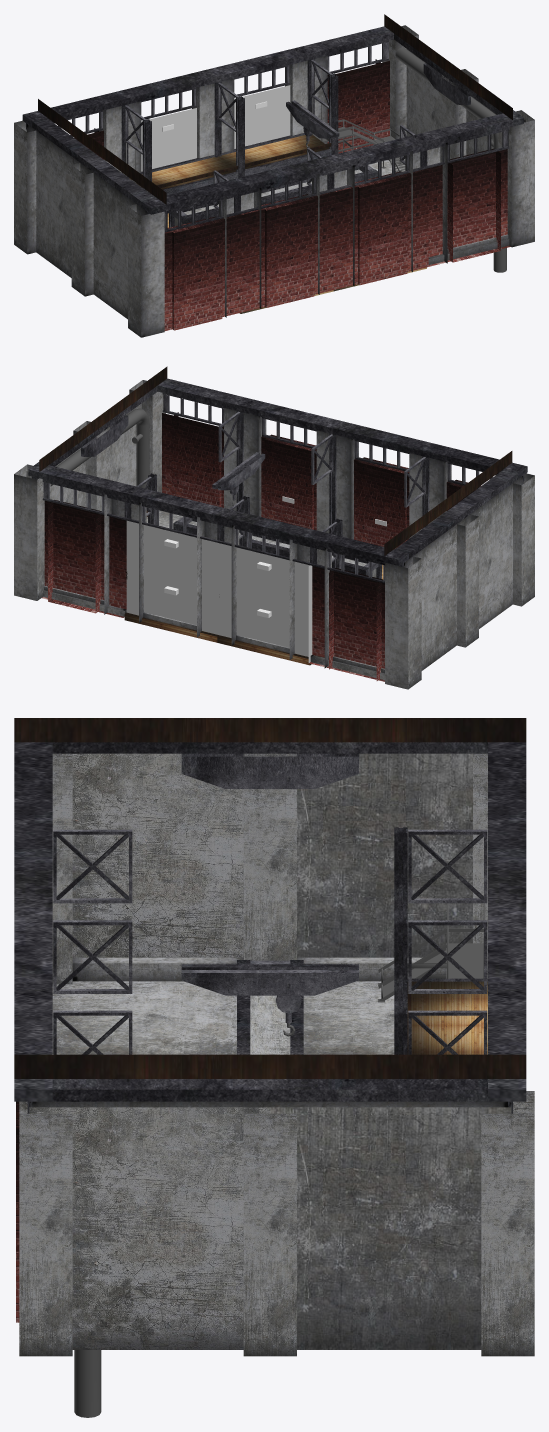
File: map.fbx
3 views of the same model, one above another, from view 1: azimuth 30°, elevation 25°; view 2: azimuth 150°, elevation 25°; view 3: azimuth 270°, elevation 25° (orthographic). The views are drawn at different scales.
Visible parts, largest first — view 1: pCube97, pCube41, pCube133, pCube84, pCube45, pCube82, pCube199, pCube197, pCube198, pCube44, pCube47, pCube178 (+44 smaller); view 2: pCube121, pCube122, pCube123, pCube133, pCube97, pCube120, pCube200, pCube199, pCube198, pCube82, pCube83, pCube180 (+38 smaller); view 3: pCube175, pCube176, pCube198, pCube199, pCube180, pCube178, pCube181, pCube97, pCube133, pCube259, pCube260, polySurface60 (+24 smaller).
Part boxes in pixels (x1,y1,x2,y2): pCube97: (141, 111, 523, 214); pCube41: (427, 149, 510, 266); pCube133: (22, 26, 393, 127); pCube84: (167, 216, 222, 330); pCube45: (261, 194, 314, 307); pCube82: (355, 171, 407, 285); pCube199: (26, 124, 86, 277); pCube197: (128, 204, 164, 337); pCube198: (87, 168, 147, 319); pCube44: (334, 168, 428, 289); pCube47: (241, 191, 335, 312); pCube178: (498, 110, 534, 247); pCube121: (219, 543, 312, 662); pCube122: (126, 520, 219, 634); pCube123: (42, 500, 126, 617); pCube133: (28, 462, 408, 565); pCube97: (157, 378, 527, 478); pCube120: (309, 566, 384, 681); pCube200: (385, 556, 421, 689); pCube199: (404, 519, 463, 670); pCube198: (463, 476, 523, 628); pCube82: (264, 434, 315, 529); pCube83: (171, 412, 223, 506); pCube180: (14, 464, 50, 600); pCube175: (270, 1101, 511, 1349); pCube176: (29, 1101, 270, 1349); pCube198: (72, 753, 243, 957); pCube199: (297, 753, 472, 957); pCube180: (481, 1091, 534, 1356); pCube178: (19, 1101, 72, 1356); pCube181: (243, 1113, 296, 1356); pCube97: (14, 742, 52, 1101); pCube133: (488, 742, 526, 1101); pCube259: (14, 1054, 526, 1078); pCube260: (14, 718, 526, 742); polySurface60: (52, 981, 236, 1054).
Size of the model in its own units: 67.62 by 29 by 38.88.
Materials: 8 (5 with a texture image).
